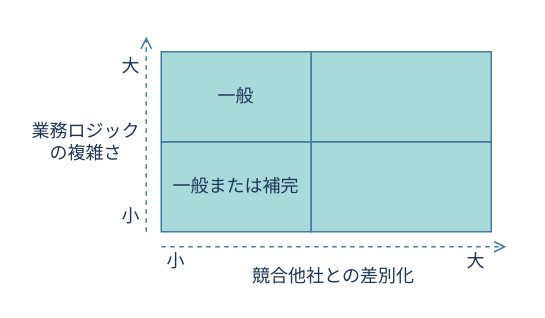
Image size: 545x318. Some labels were removed from this diagram. The shapes that lost their labels are listed below. From the top down, each one's box as (x1, y1, x2, y2) in pixels, then its label:
(310, 50, 491, 142): 中核
(310, 140, 491, 232): 補完
